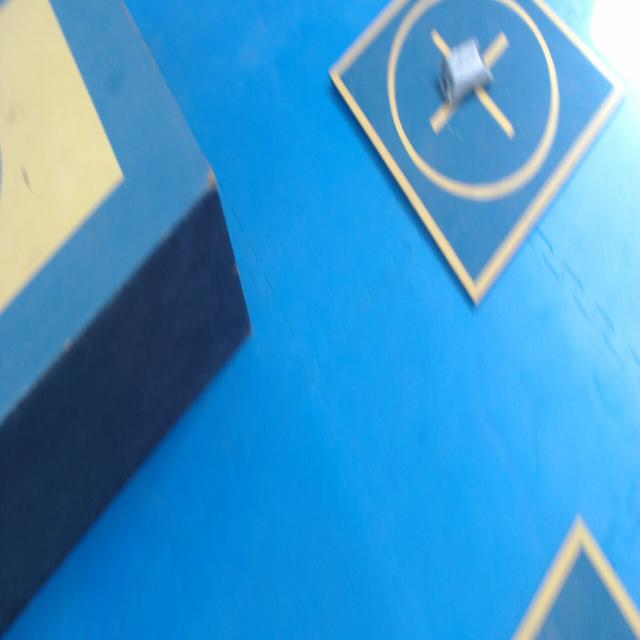lipo: (441, 38, 492, 104)
